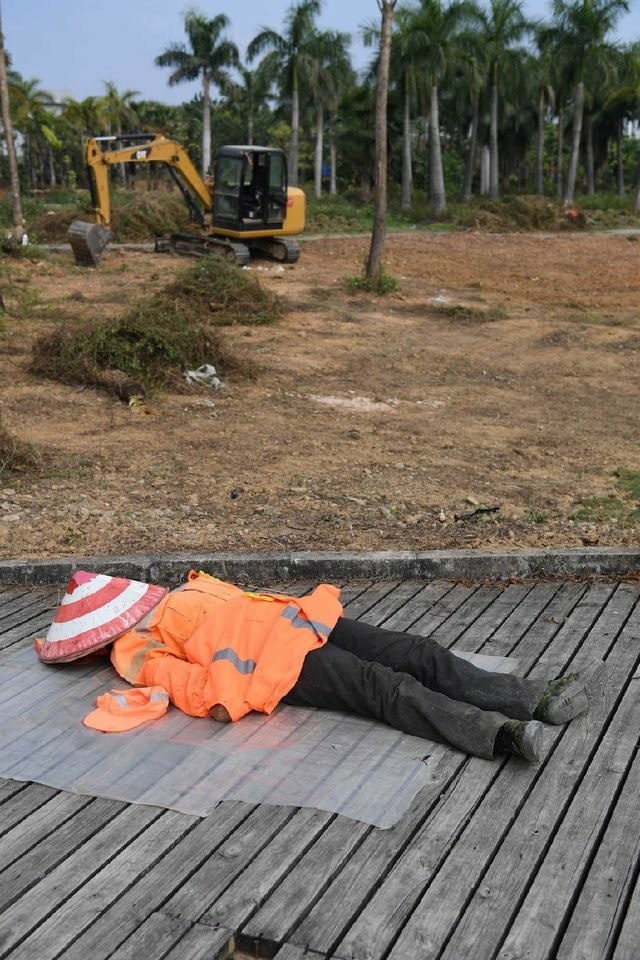falling: (35, 538, 597, 758)
